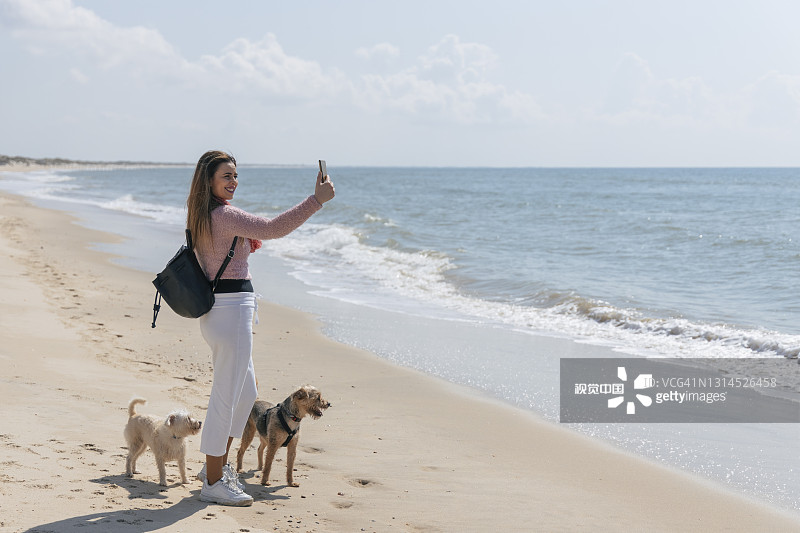taking photos: (301, 154, 348, 216)
